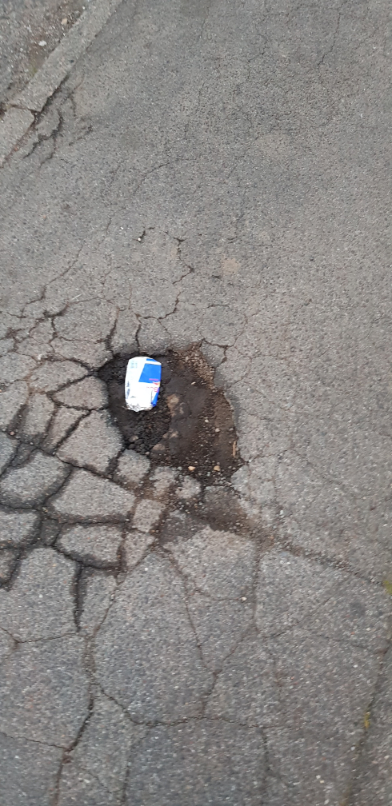pothole: (86, 336, 248, 490)
